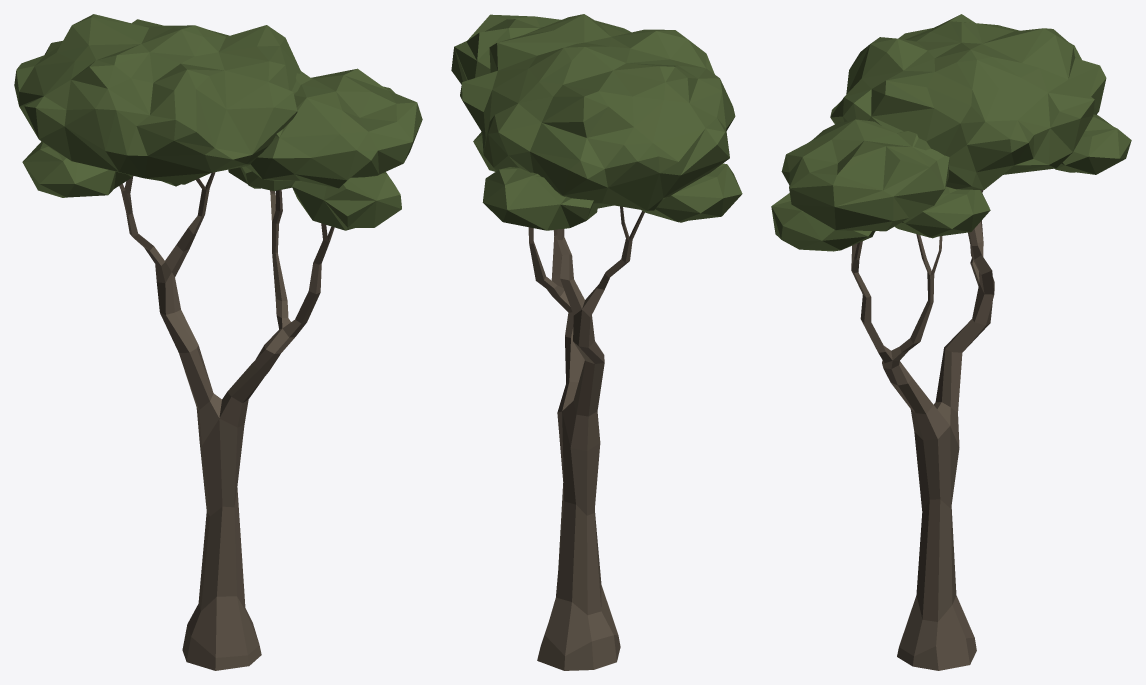
The model's file is SM_Env_Tree_Tall_02.fbx.
3 views of the same model, side by side, from view 1: azimuth 30°, elevation 25°; view 2: azimuth 150°, elevation 25°; view 3: azimuth 270°, elevation 25° (orthographic). The views are drawn at different scales.
Visible parts, largest first — view 1: SM_Env_Tree_Tall_02; view 2: SM_Env_Tree_Tall_02; view 3: SM_Env_Tree_Tall_02.
Boxes of the visible parts, box(x1,y1,x2,y2) form: SM_Env_Tree_Tall_02: box(14, 14, 422, 670); SM_Env_Tree_Tall_02: box(451, 14, 742, 670); SM_Env_Tree_Tall_02: box(771, 14, 1131, 670).
Size of the model in its own units: 331 by 609 by 335.
